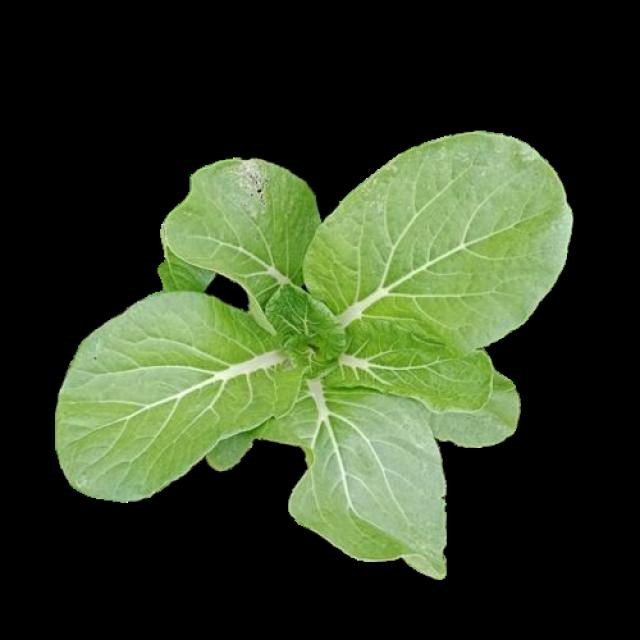mature: (54, 137, 573, 575)
unhealthy: (292, 136, 573, 350), (160, 159, 317, 288)
